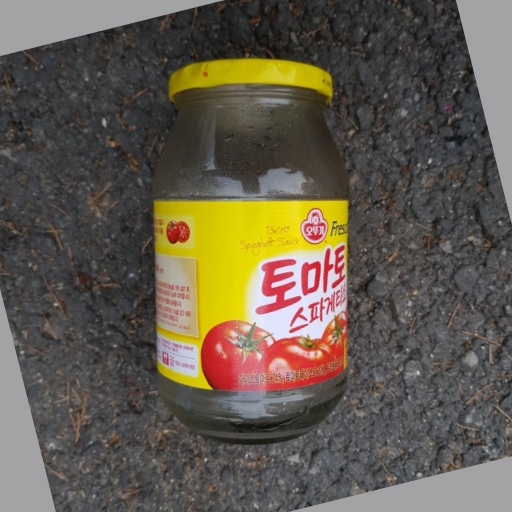Glass_5: (143, 57, 359, 444)
